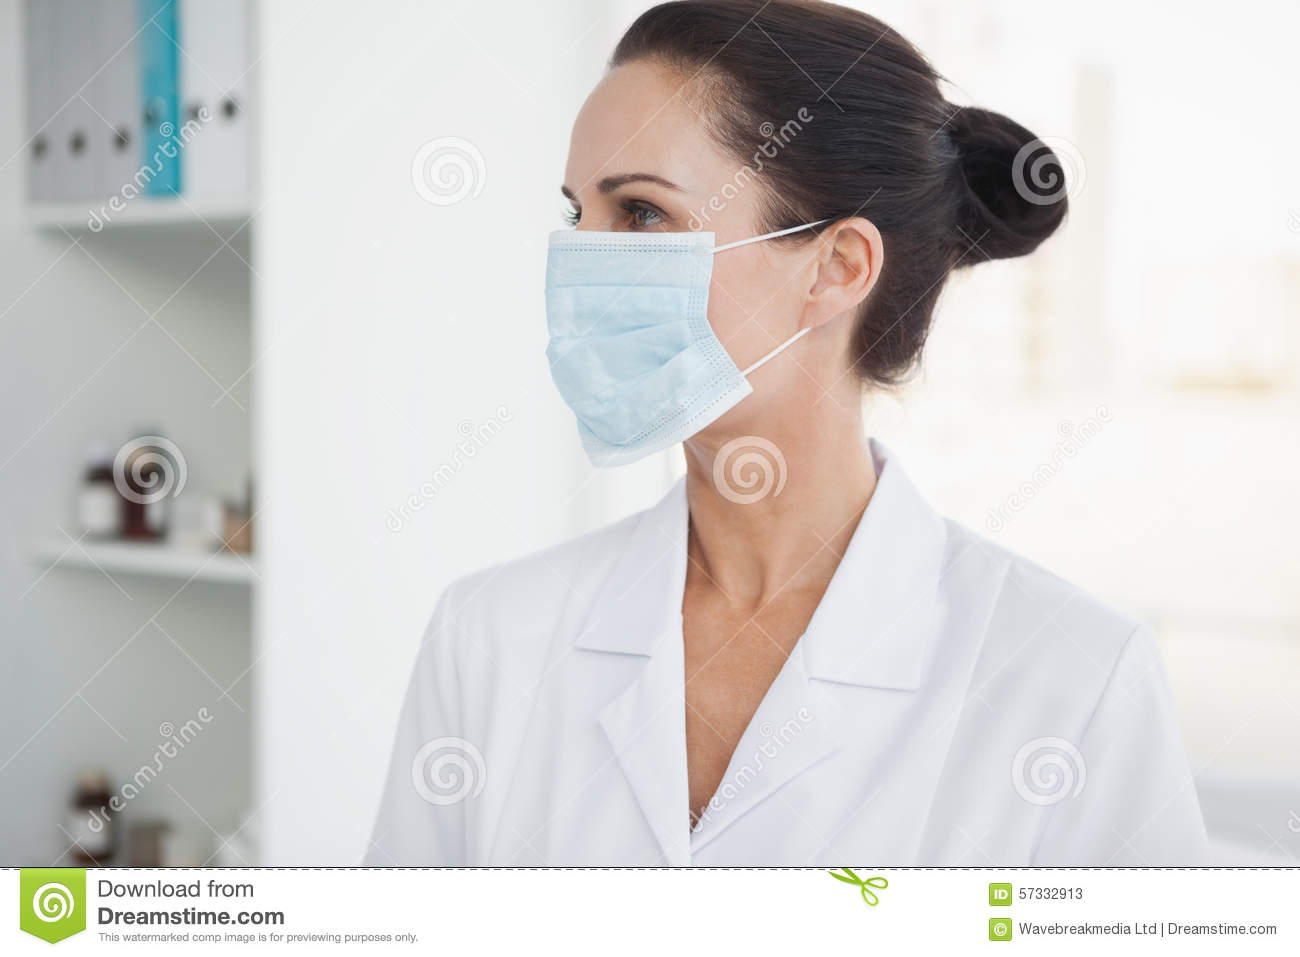mask: (536, 217, 747, 470)
